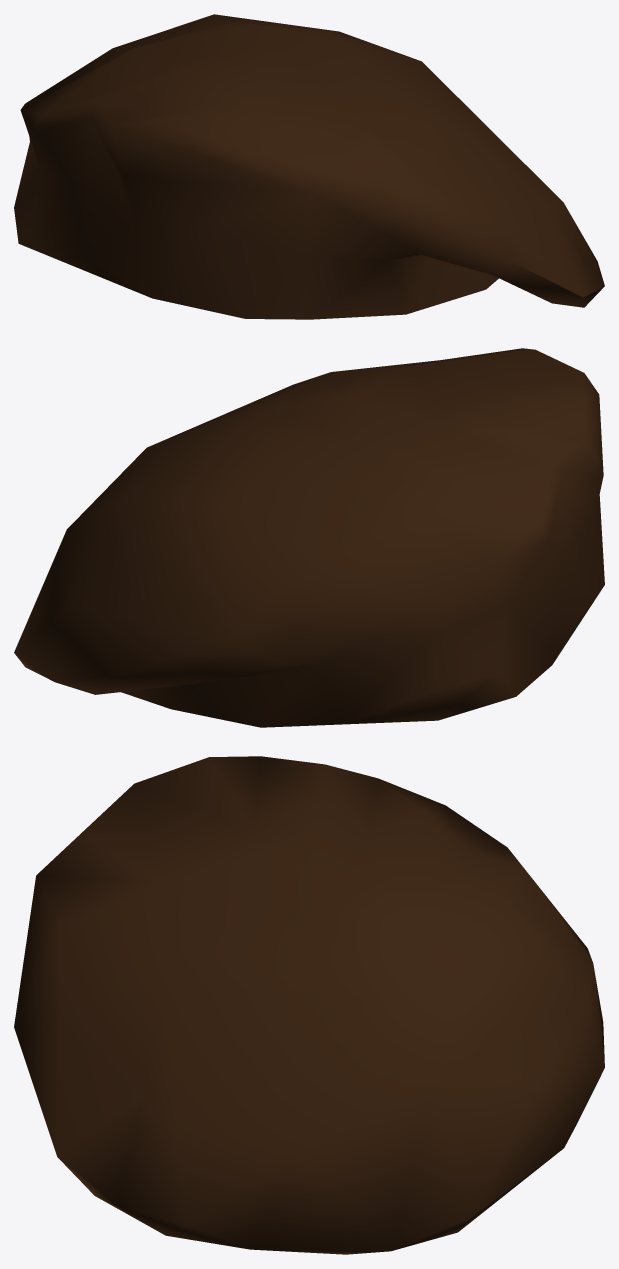
The model's file is ArtSchoolIdle_Hat_Painter.fbx.
The picture shows the model from 3 angles, top to bottom: view 1: azimuth 30°, elevation 25°; view 2: azimuth 150°, elevation 25°; view 3: azimuth 270°, elevation 25°; orthographic projection. The views are drawn at different scales.
Visible parts, largest first — view 1: Hat_Painter; view 2: Hat_Painter; view 3: Hat_Painter.
Part boxes in pixels (<box>): Hat_Painter: <box>14,14,604,319</box>; Hat_Painter: <box>14,348,604,727</box>; Hat_Painter: <box>14,756,604,1254</box>.
Size of the model in its own units: 44.62 by 44.81 by 23.97.
